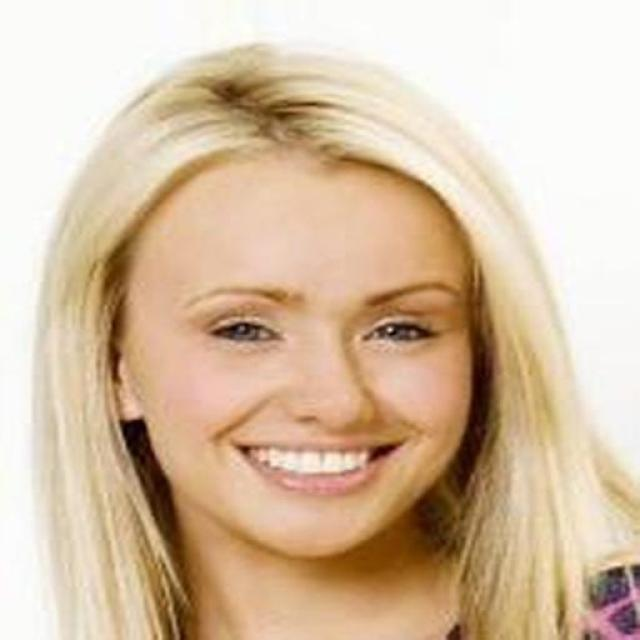bareface: (163, 220, 493, 568)
